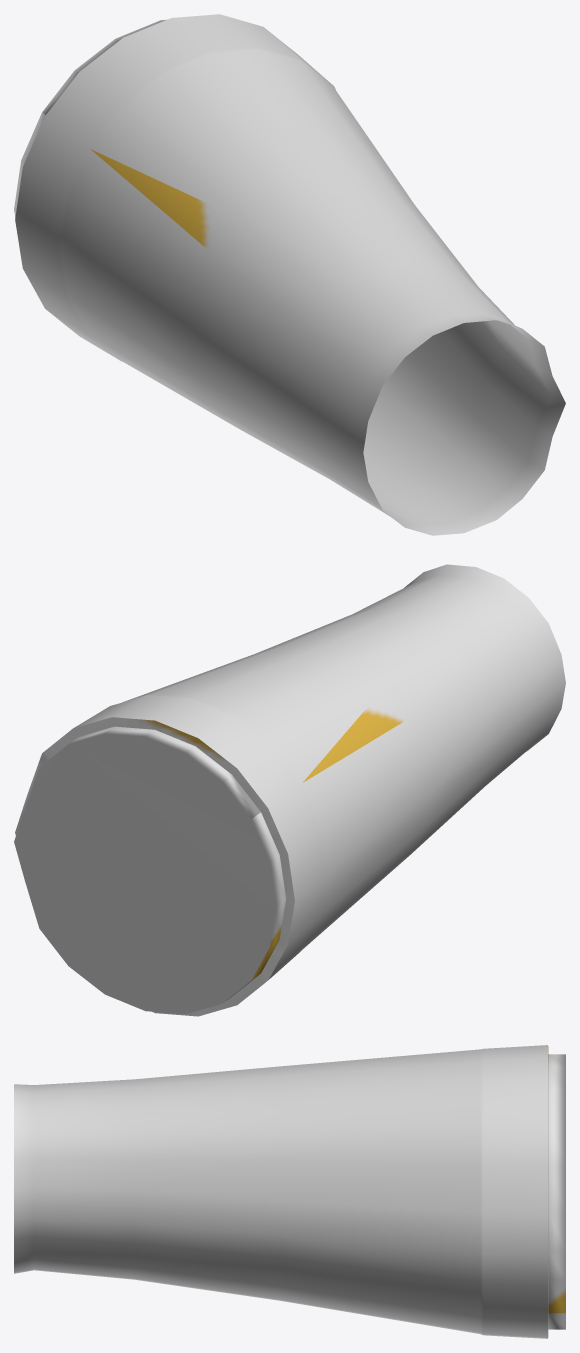
3 views of the same model, one above another, from view 1: azimuth 30°, elevation 25°; view 2: azimuth 150°, elevation 25°; view 3: azimuth 270°, elevation 25° (orthographic). The views are drawn at different scales.
Parts seen in each view (by area): view 1: link_base.3obj.007; view 2: link_base.3obj.007; view 3: link_base.3obj.007.
Boxes of the visible parts, box(x1,y1,x2,y2) form: link_base.3obj.007: box(14, 14, 565, 535); link_base.3obj.007: box(14, 564, 565, 1016); link_base.3obj.007: box(14, 1045, 565, 1338).
Size of the model in its own units: 0.1427 by 0.1423 by 0.2653.
Materials: 1 (1 with a texture image).
